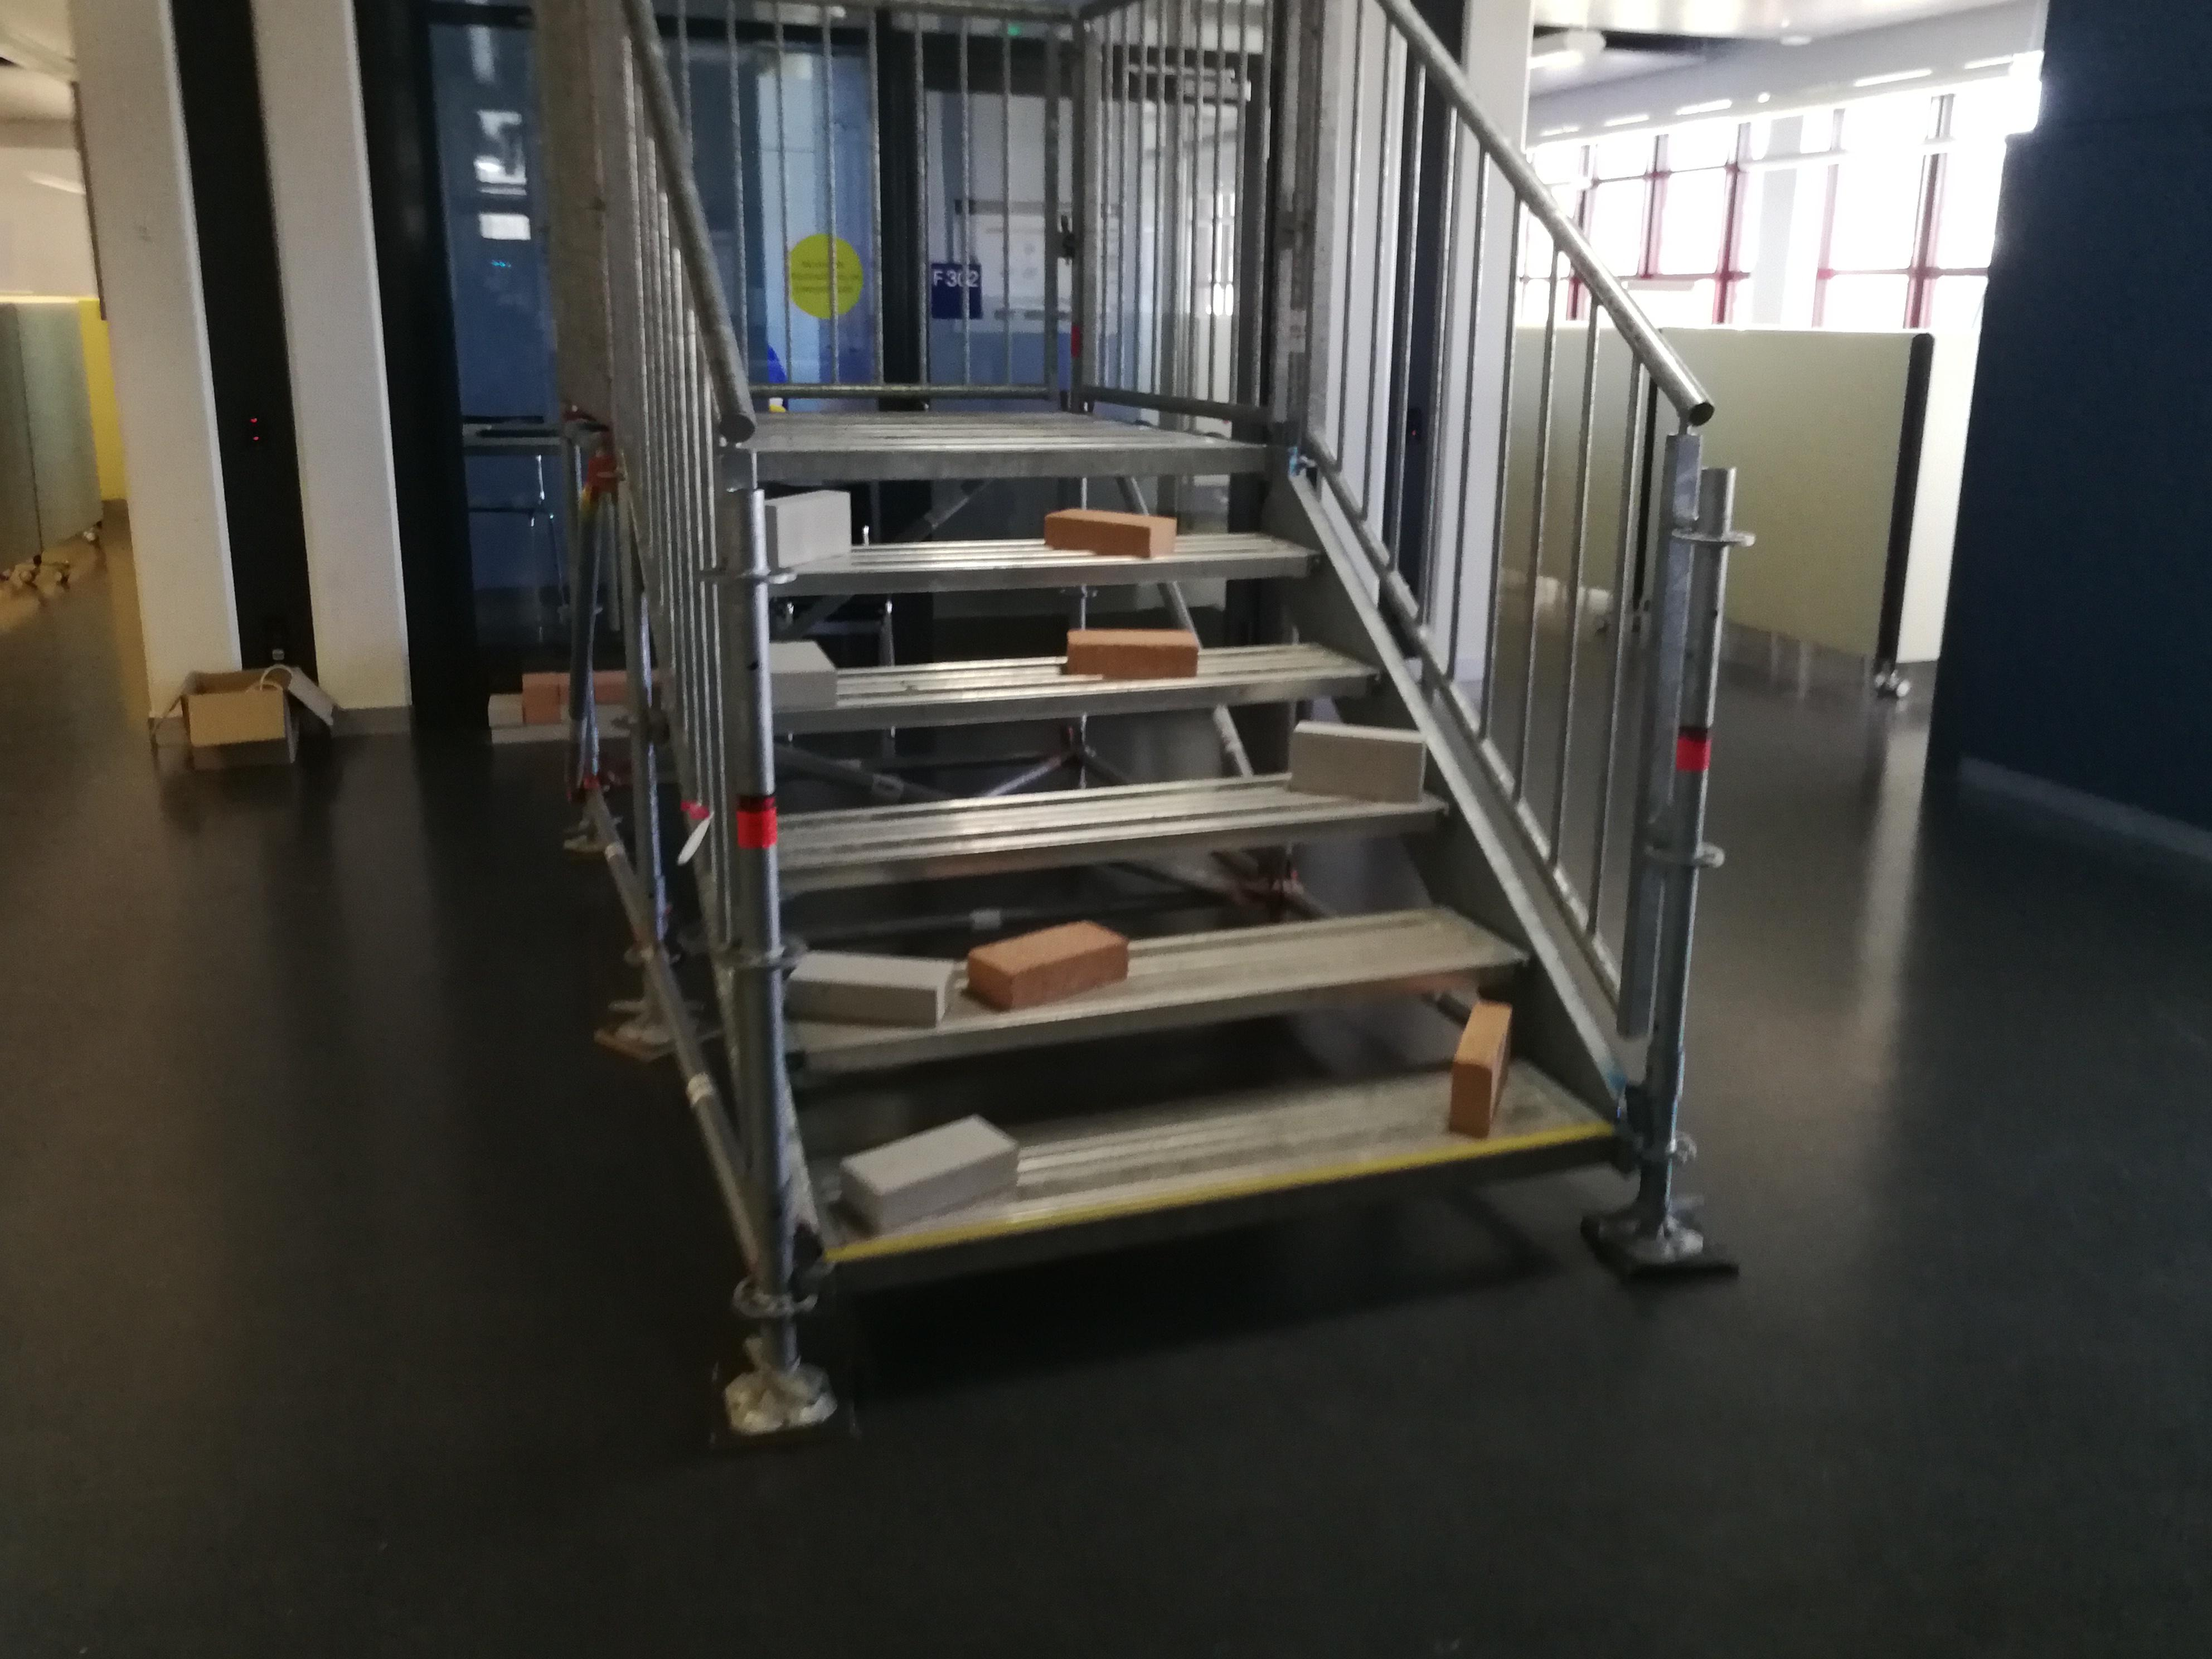brick: (841, 1119, 1010, 1236), (968, 922, 1125, 1009), (786, 950, 953, 1025), (1285, 720, 1426, 802), (1451, 1004, 1508, 1134), (1043, 507, 1174, 554), (1066, 629, 1197, 673), (766, 491, 843, 561), (766, 643, 831, 711)
edge: (841, 1129, 1611, 1293), (786, 957, 1533, 1075), (787, 807, 1439, 889), (768, 671, 1378, 725), (765, 554, 1318, 596), (751, 450, 1278, 481)
stairs: (698, 5, 1737, 1448)
steps: (735, 427, 1639, 1317)
